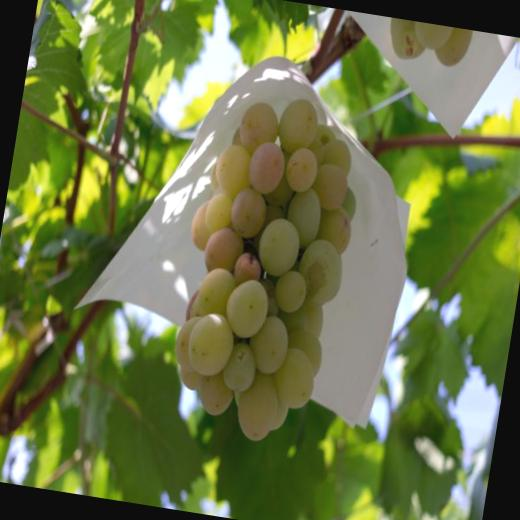Orange: (162, 84, 369, 449), (384, 18, 428, 62), (431, 25, 472, 70), (415, 22, 452, 55)
